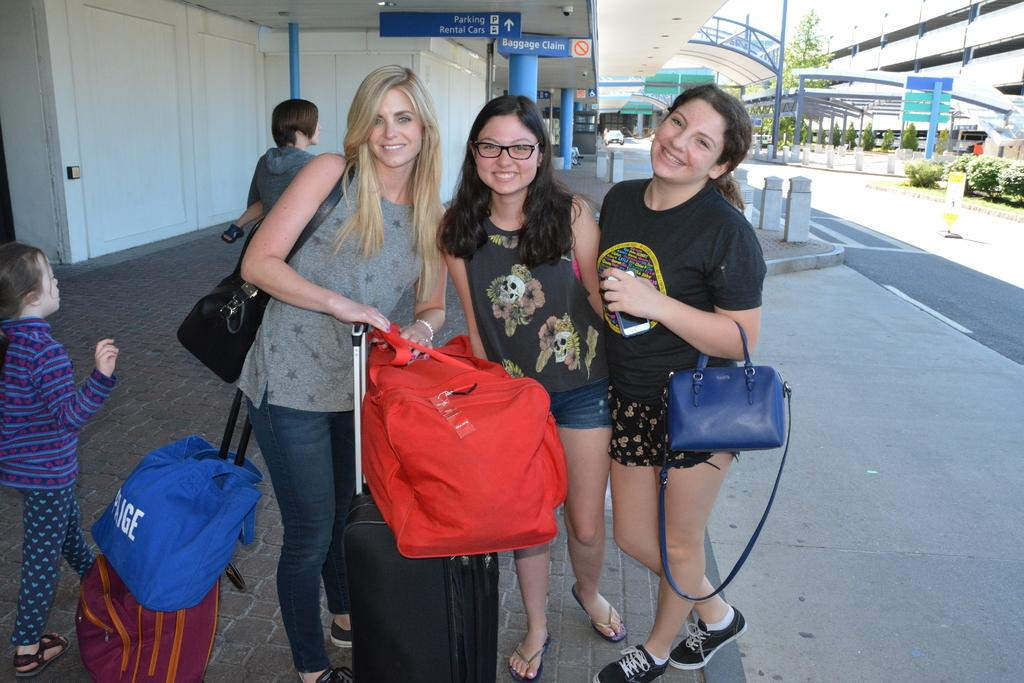Luggage-and-bags: (356, 325, 575, 561), (179, 160, 364, 386), (91, 390, 268, 611), (662, 317, 798, 599), (77, 561, 246, 682)
